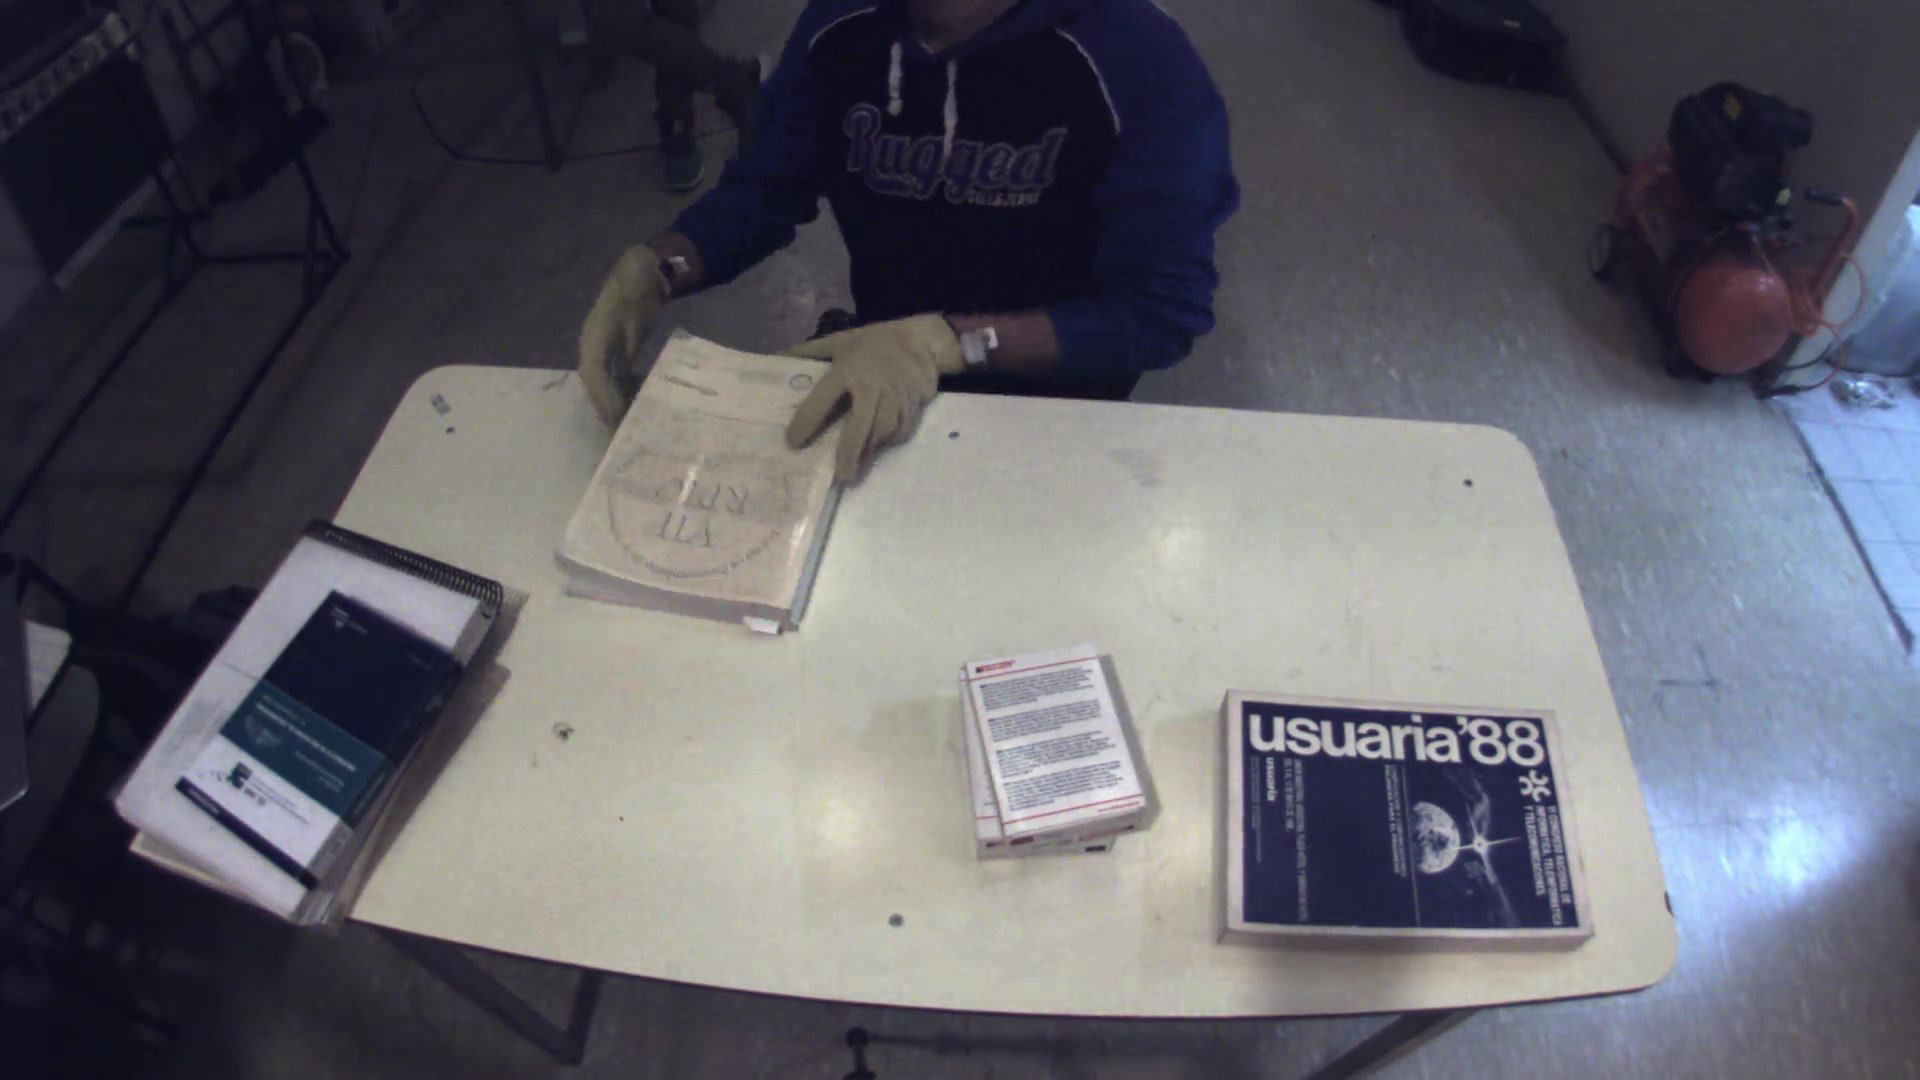hand: (771, 301, 977, 452), (560, 236, 675, 419)
